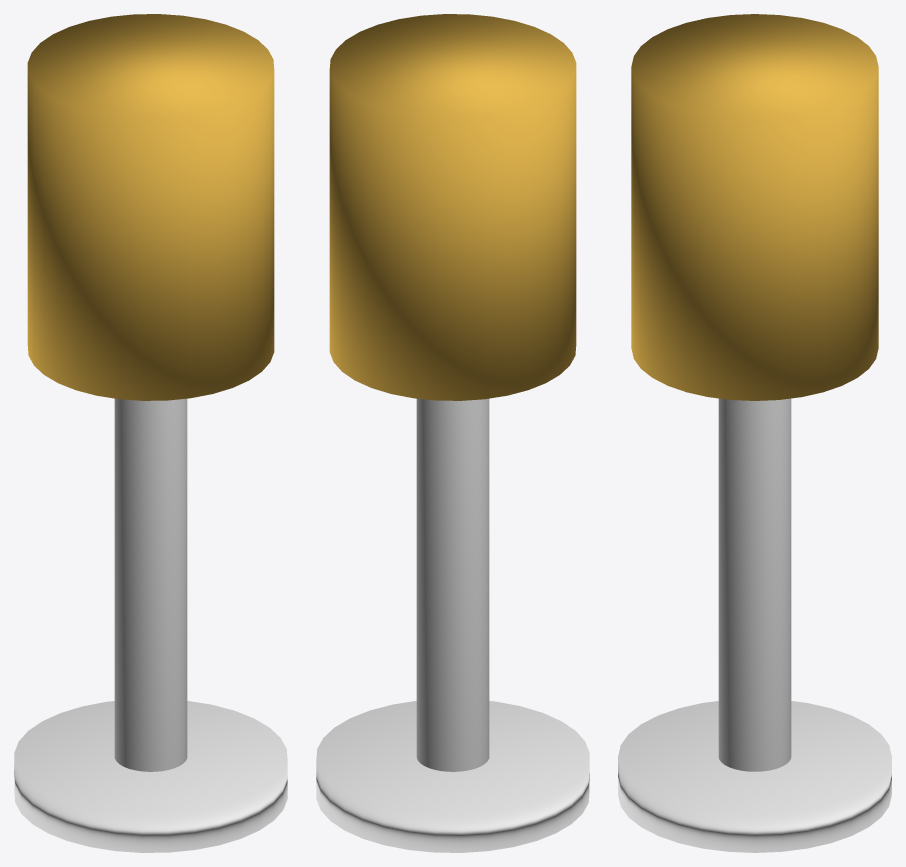
The model's file is lamp.fbx.
The picture shows the model from 3 angles, left to right: view 1: azimuth 30°, elevation 25°; view 2: azimuth 150°, elevation 25°; view 3: azimuth 270°, elevation 25°; orthographic projection.
Visible parts, largest first — view 1: Cylinder.002, Cylinder.001, Cylinder; view 2: Cylinder.002, Cylinder.001, Cylinder; view 3: Cylinder.002, Cylinder.001, Cylinder.
Part boxes in pixels (bbox=[...]): Cylinder.002: bbox=[27, 14, 274, 400]; Cylinder.001: bbox=[14, 701, 287, 852]; Cylinder: bbox=[114, 398, 187, 771]; Cylinder.002: bbox=[329, 14, 576, 400]; Cylinder.001: bbox=[316, 701, 589, 852]; Cylinder: bbox=[416, 398, 489, 771]; Cylinder.002: bbox=[631, 14, 878, 400]; Cylinder.001: bbox=[618, 701, 891, 852]; Cylinder: bbox=[718, 398, 791, 771].
Bounding box in the file's own units: 158 × 465 × 158.
